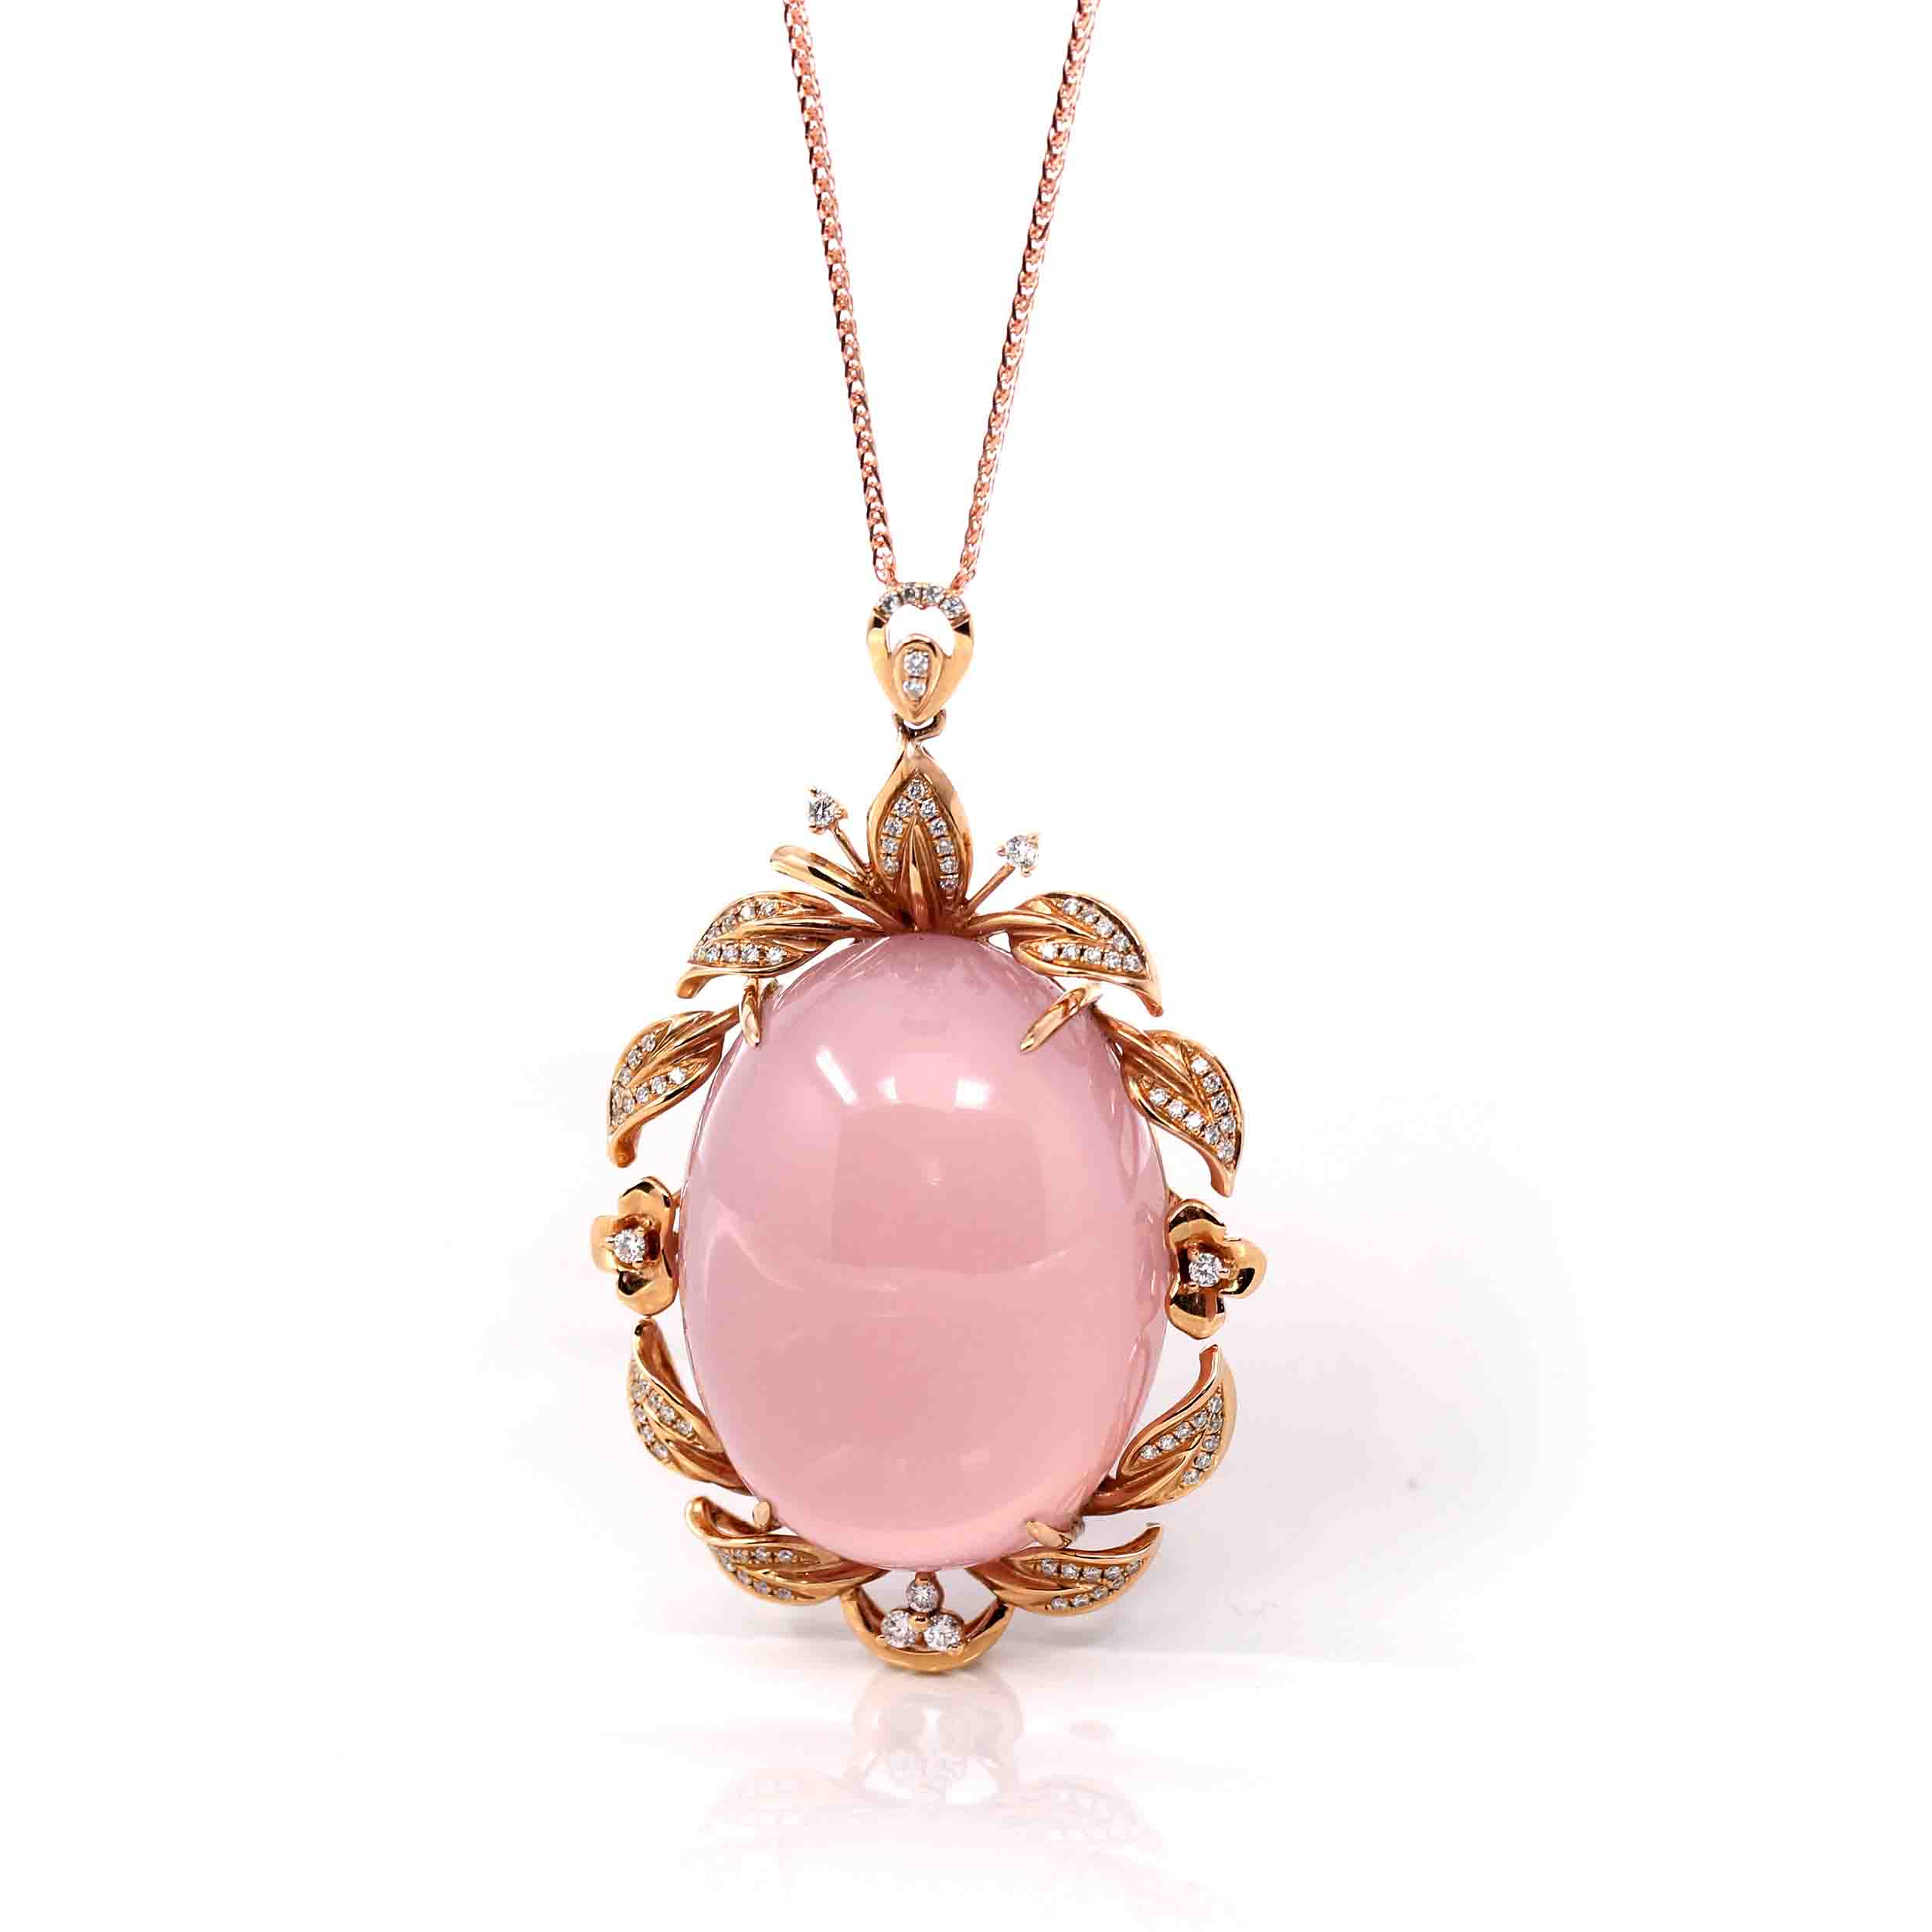Rose_Quartz: (748, 982, 1077, 1564)
